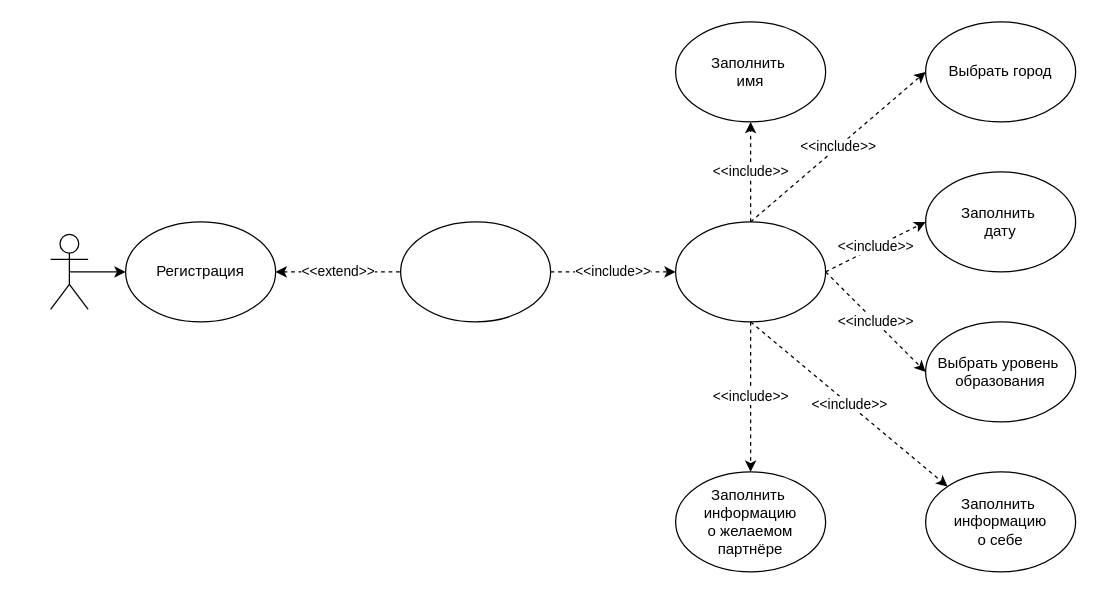
Image size: 1098x594. Some labels were removed from this diagram. The shapes that lost their labels are listed below. From the top down, each one's centre as x and y in pixels, then its label:
At (68,271): "Неизвестный пользователь".
At (475,271): "Настроить аккаунт".
At (750,271): "Заполнить персональные данные".
